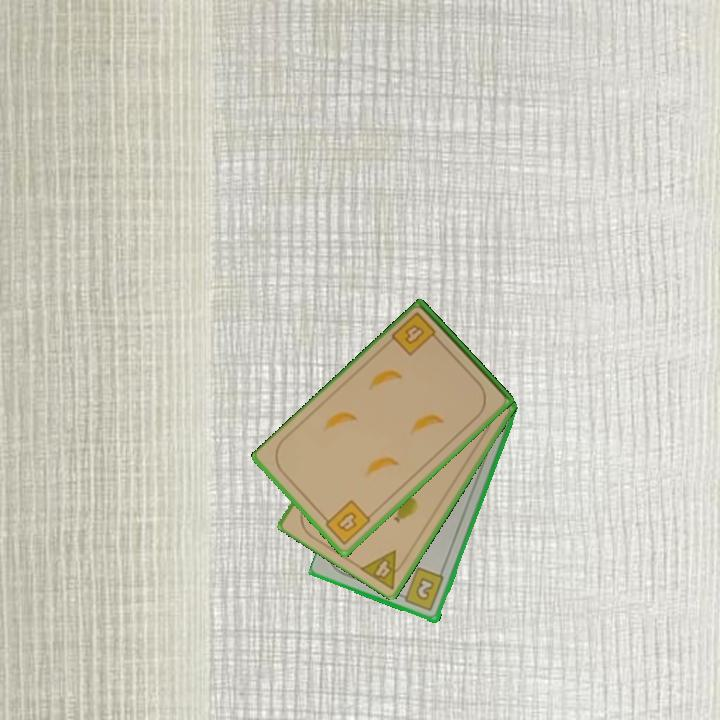2b: (396, 564, 447, 614)
4b: (319, 496, 374, 548), (388, 309, 444, 359)
4p: (357, 546, 411, 592)
